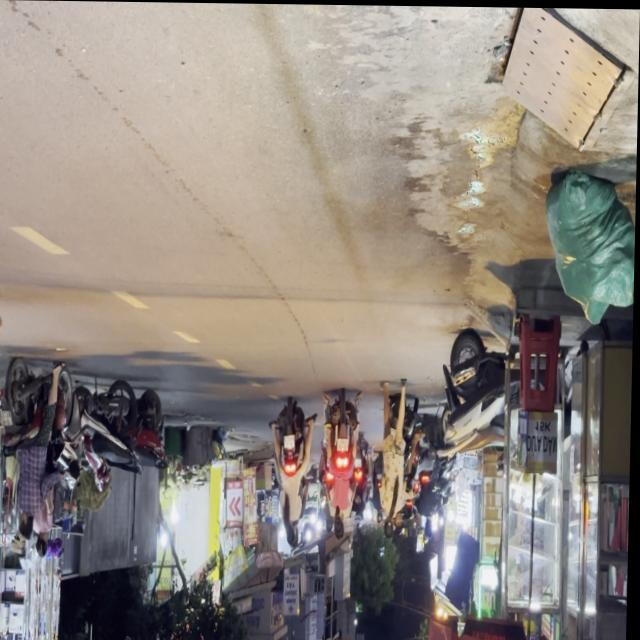licenseplate: (0, 354, 80, 565)
motorcyclist: (21, 512, 38, 541)
